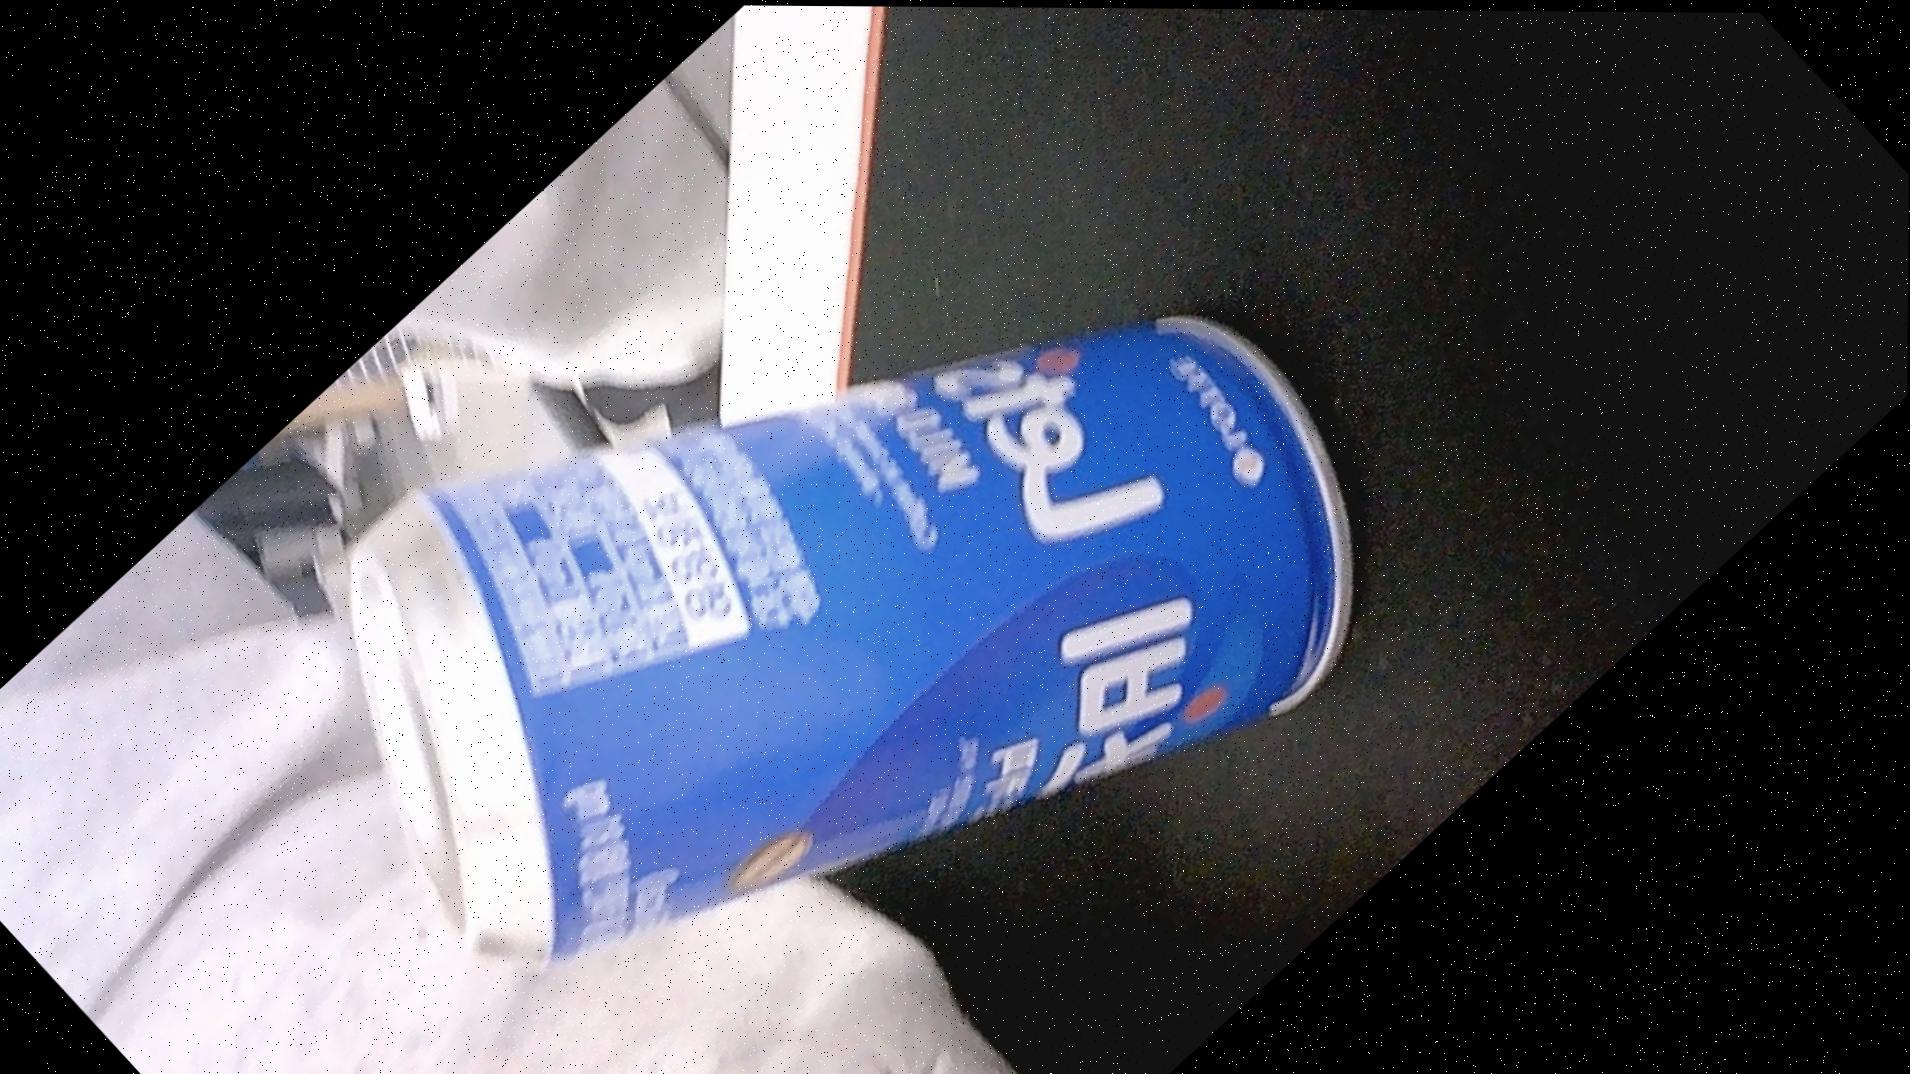letsbe: (206, 1, 1464, 1074)
